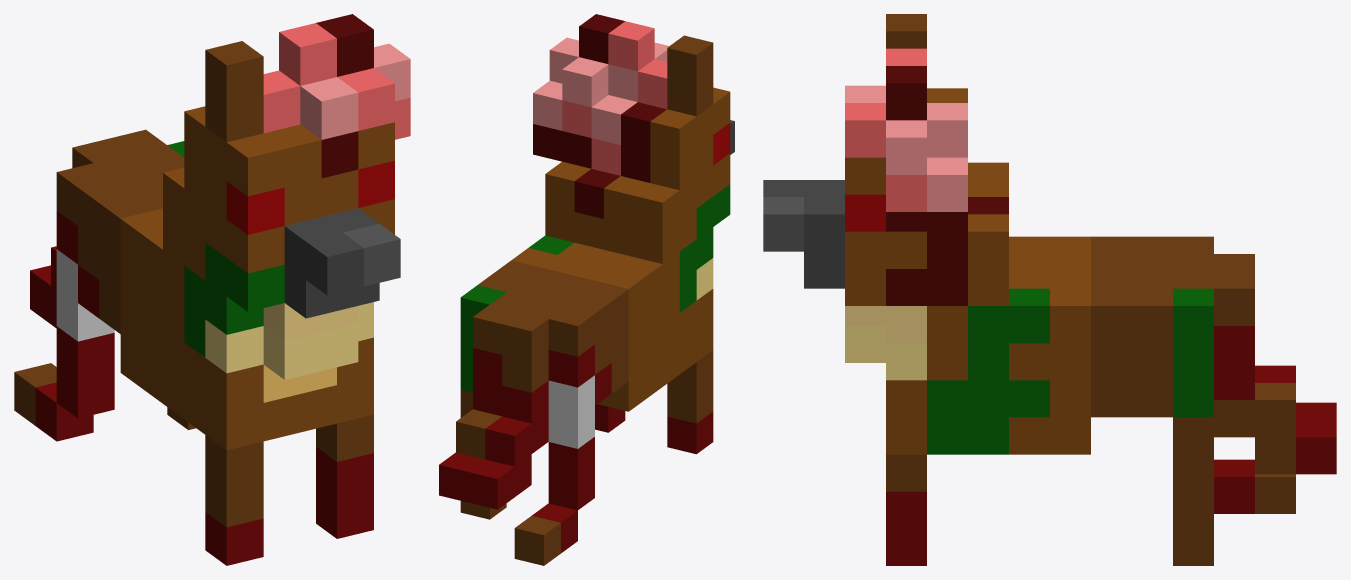
The model's file is chien.obj.
3 views of the same model, side by side, from view 1: azimuth 30°, elevation 25°; view 2: azimuth 150°, elevation 25°; view 3: azimuth 270°, elevation 25° (orthographic). The views are drawn at different scales.
Size of the model in its own units: 0.5 by 1.3 by 1.4.
1 material, 1 textured.
